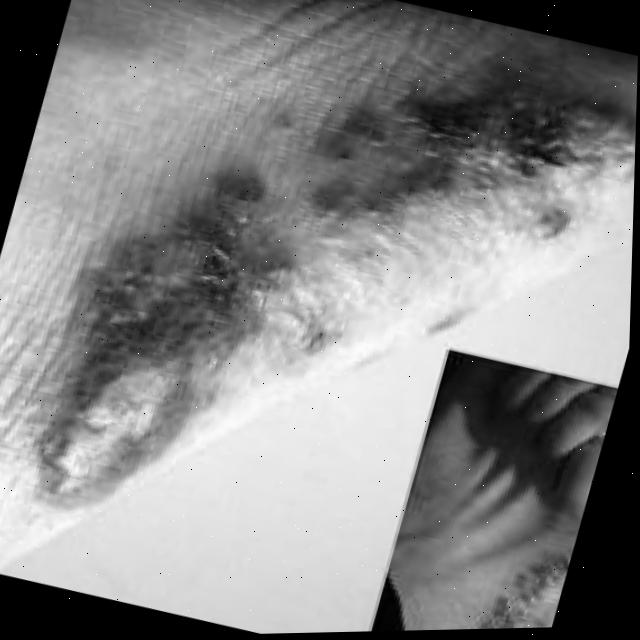Eczema: (50, 13, 638, 556), (472, 563, 561, 629)
